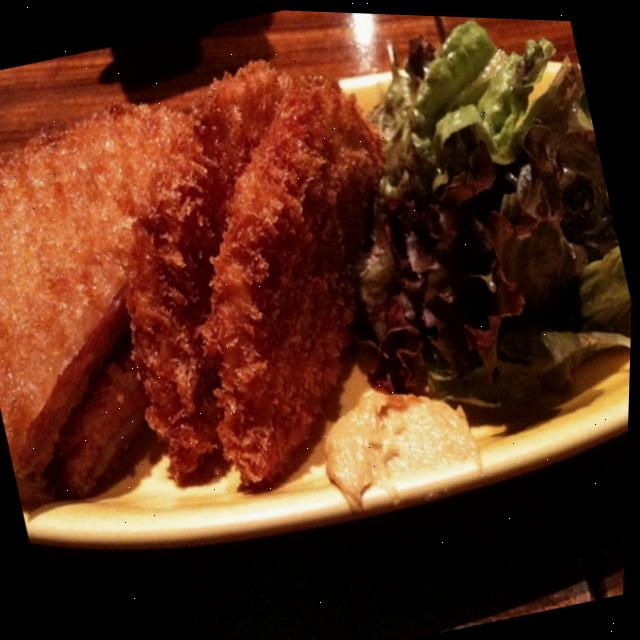炸货点心: (0, 28, 457, 543)
